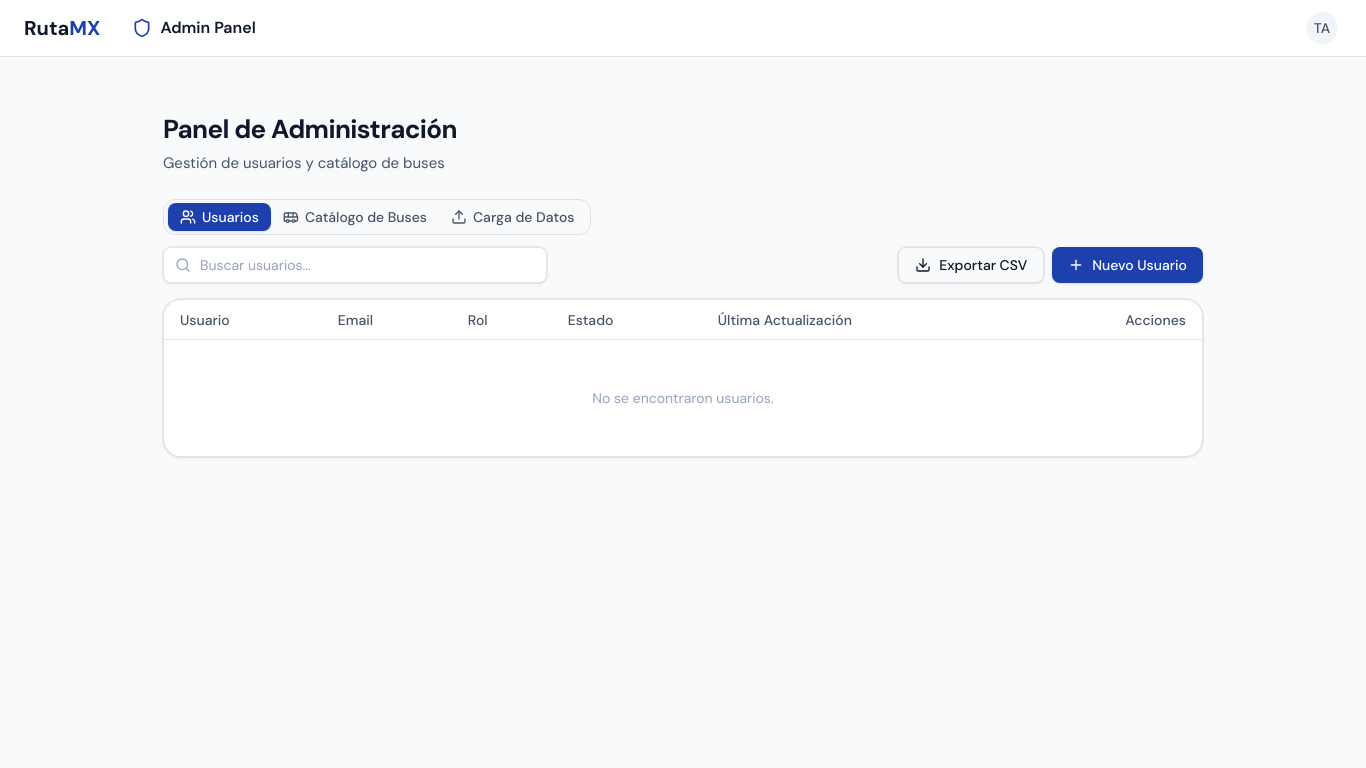
Test case: 03 — Comparativa de modelos de autobús › abre el panel de detalle al hacer click en el botón de edición del primer modelo
Click the tab "Catálogo de Buses" at (355,217), box [271,203,439,231]
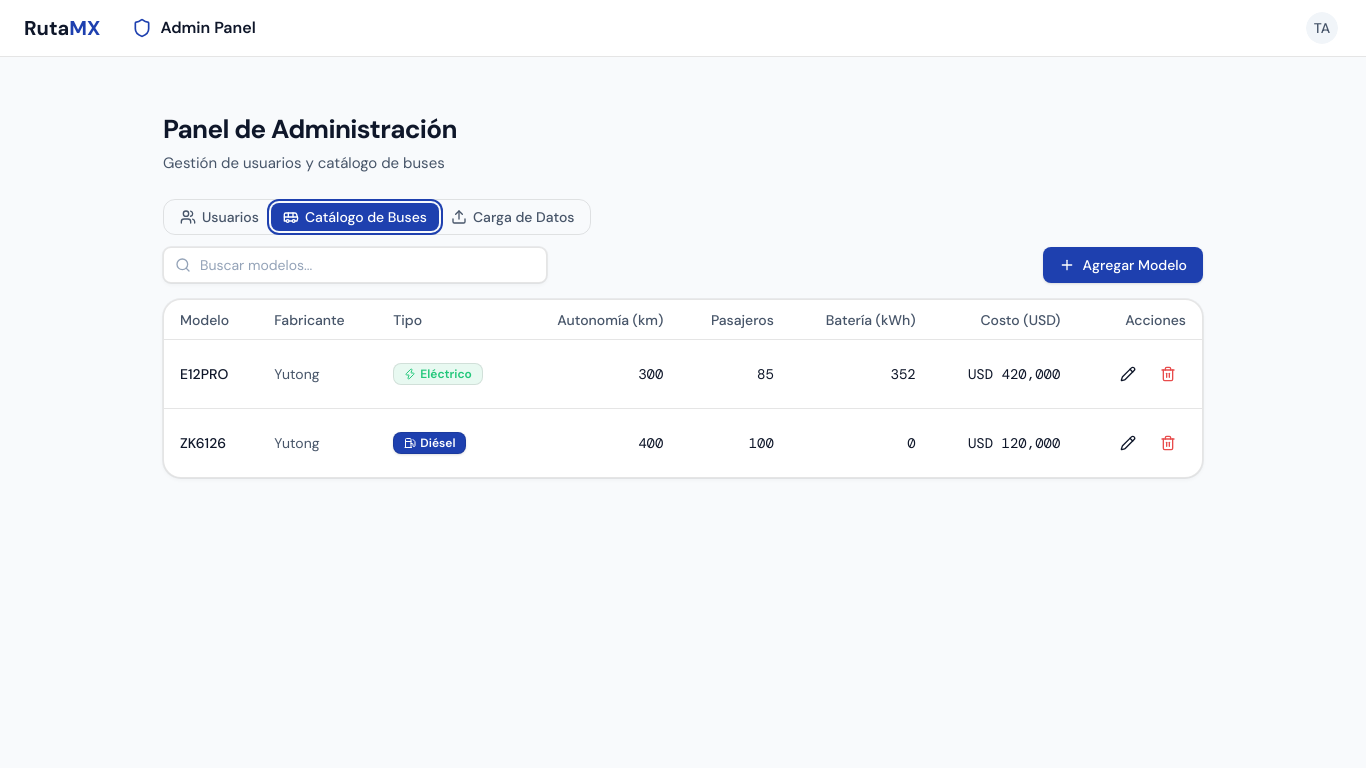
Expected: the element with test id "bus-models-table" is shown, [163,299,1203,479]
# Hace click en el botón de editar de la primera fila
Click the button titled "Editar modelo" in the row of "E12PRO" at (1128,374), box [1110,356,1146,392]
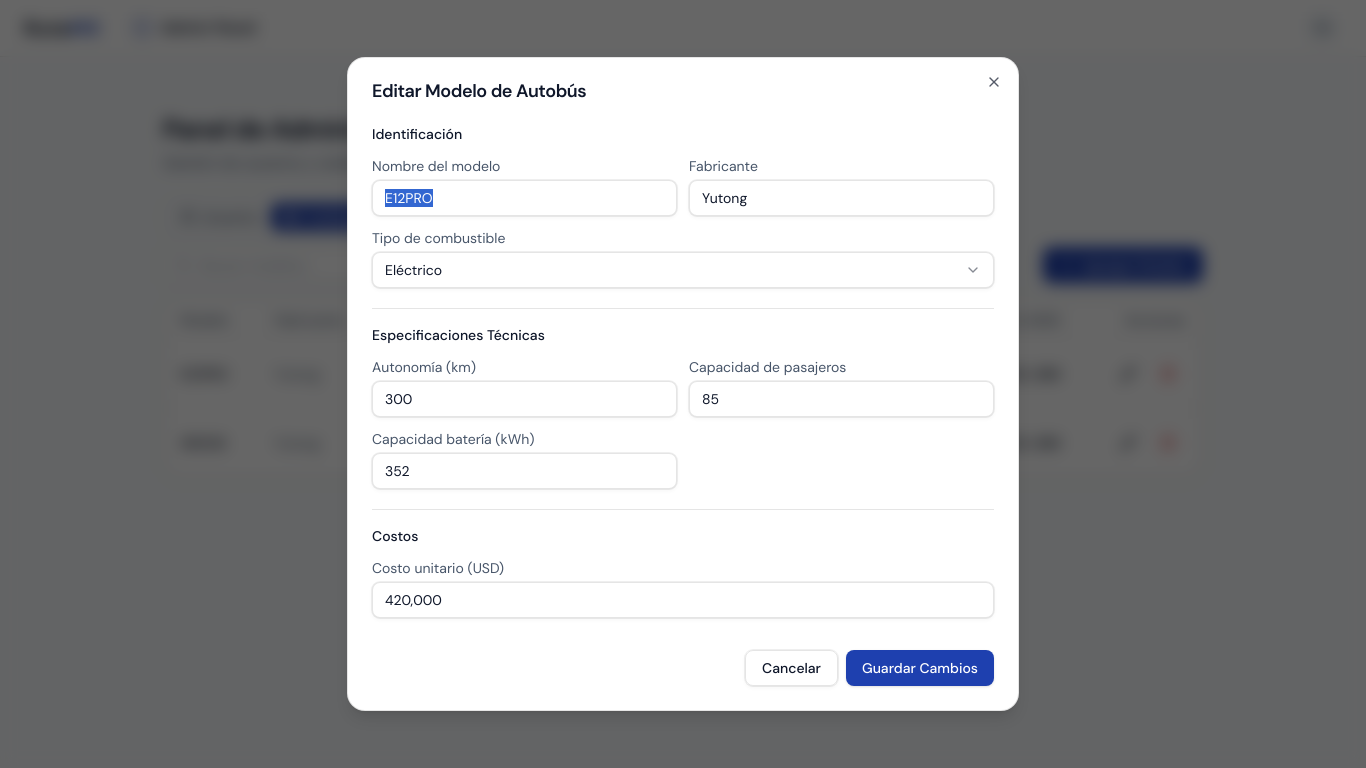
Expected: the dialog with test id "bus-model-detail" is shown, [347,57,1019,711]
